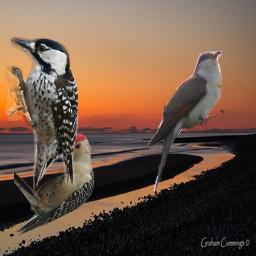Cuckoo: (147, 51, 222, 196)
Woodpecker: (4, 37, 78, 190), (14, 133, 94, 239)
